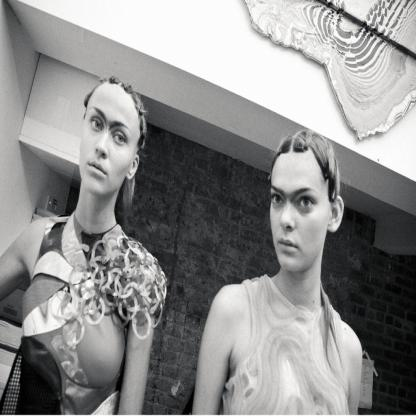face: (271, 152, 331, 274), (82, 83, 138, 196)
